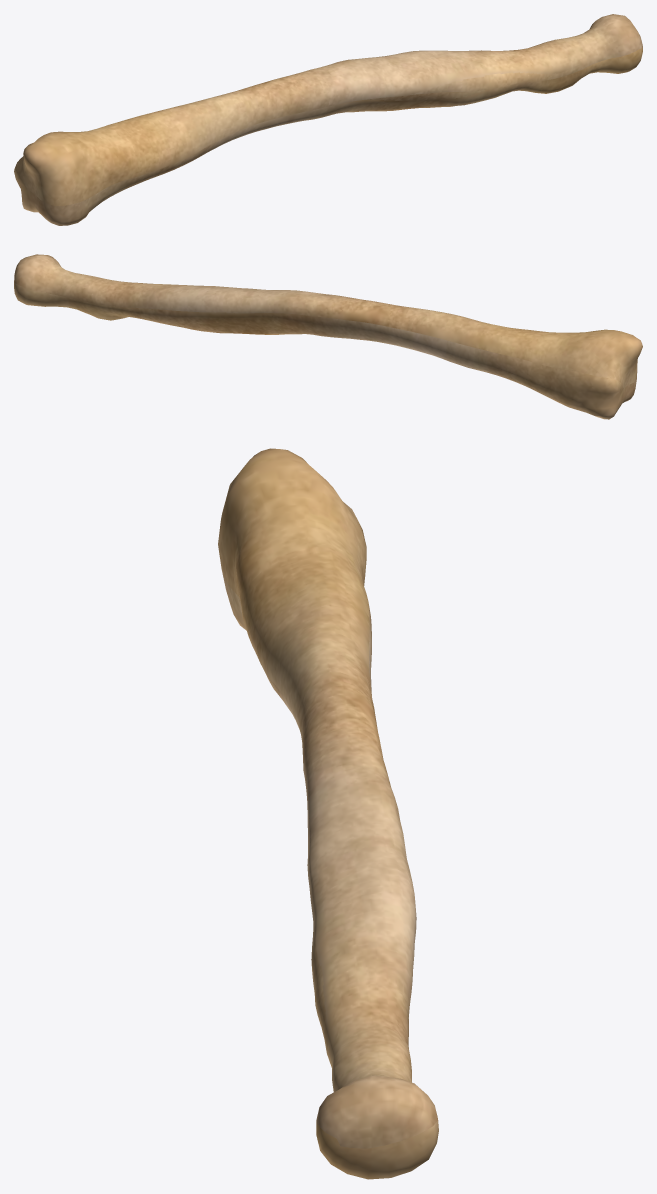
Rendered from bone.glb.
The picture shows the model from 3 angles, top to bottom: view 1: azimuth 30°, elevation 25°; view 2: azimuth 150°, elevation 25°; view 3: azimuth 270°, elevation 25°; orthographic projection. The views are drawn at different scales.
Parts seen in each view (by area): view 1: Hueso; view 2: Hueso; view 3: Hueso.
Boxes of the visible parts, x1=… form: Hueso: x1=14, y1=14, x2=642, y2=225; Hueso: x1=14, y1=254, x2=642, y2=419; Hueso: x1=218, y1=448, x2=438, y2=1179.
Bounding box in the file's own units: 1.01 × 0.1449 × 0.1619.
1 material, 1 textured.
